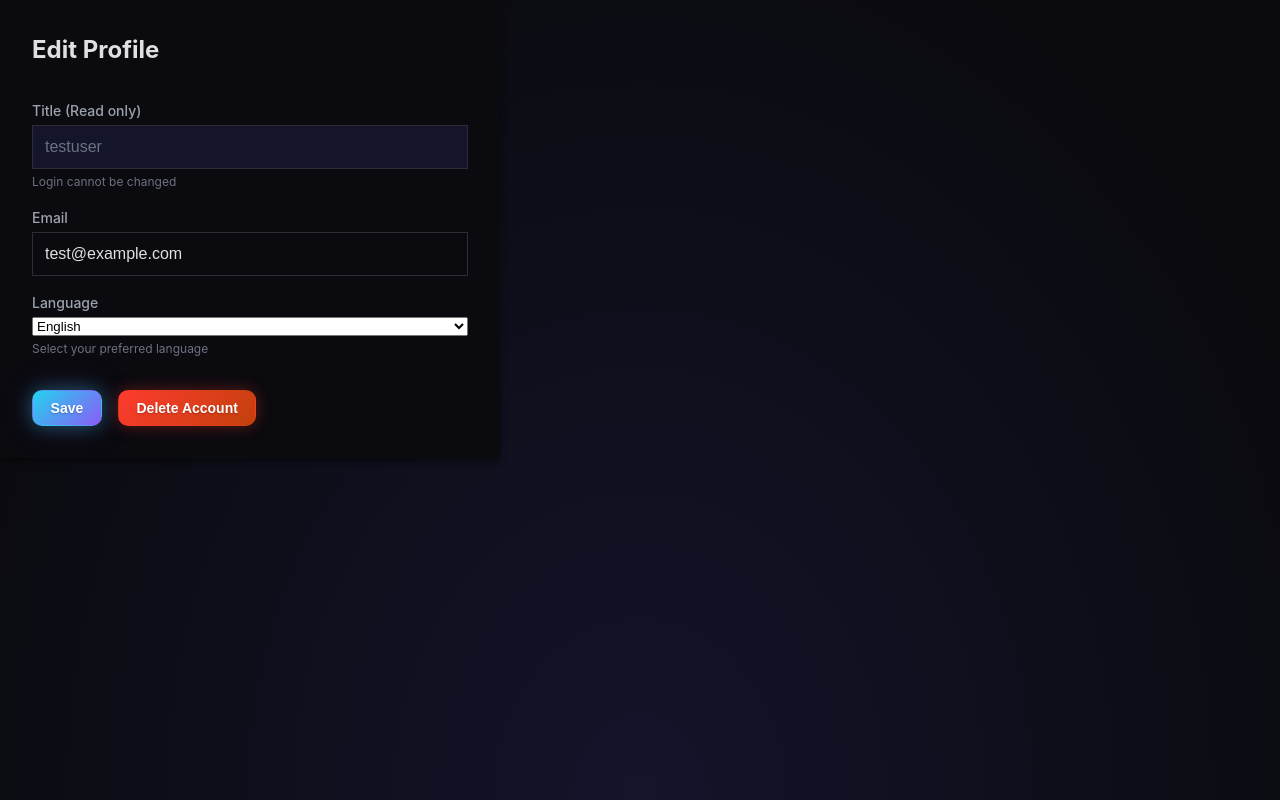
Test: ProfileEditor › saves email changes successfully
The image size is (1280, 800).
Replace the text in the field labelled "Email" with "new@example.com". click: (250, 254)
box: [32,232,468,276]
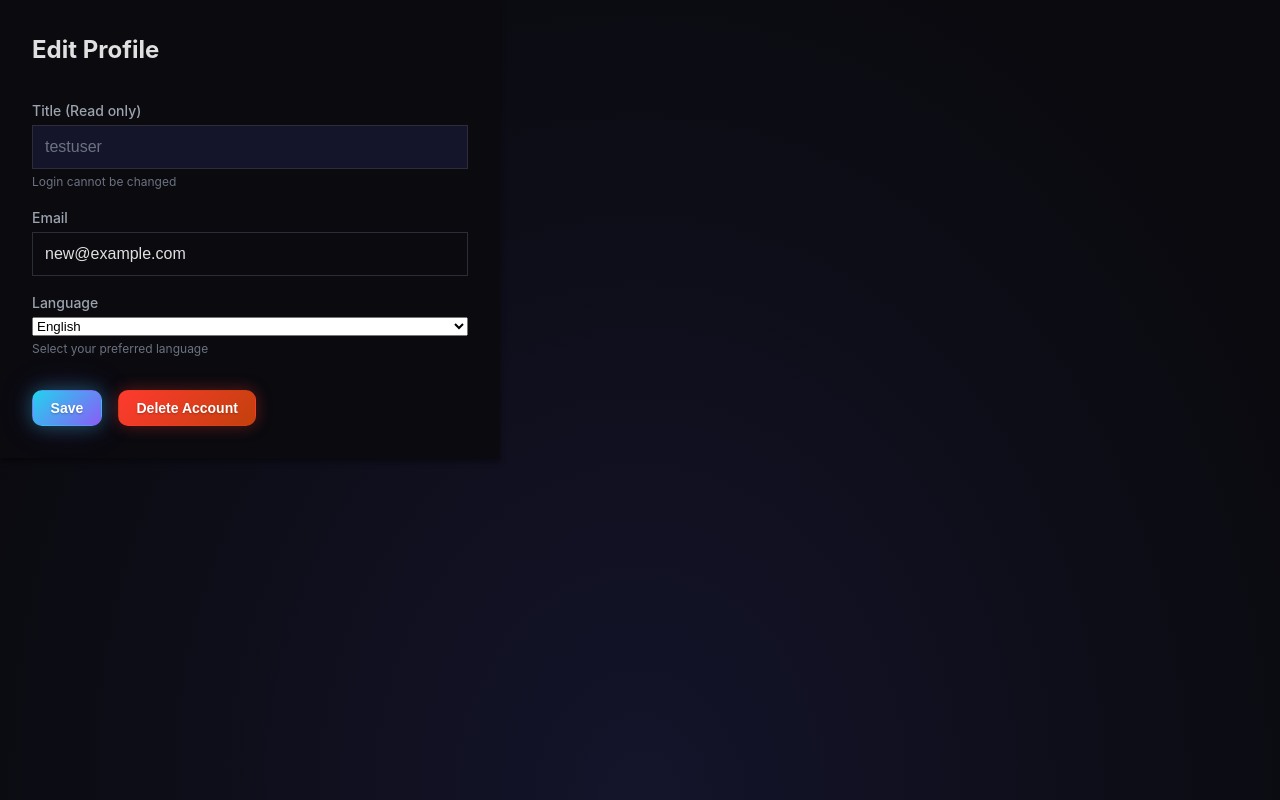
Click the button "Save". click: (67, 408)
box: [32,390,102,426]
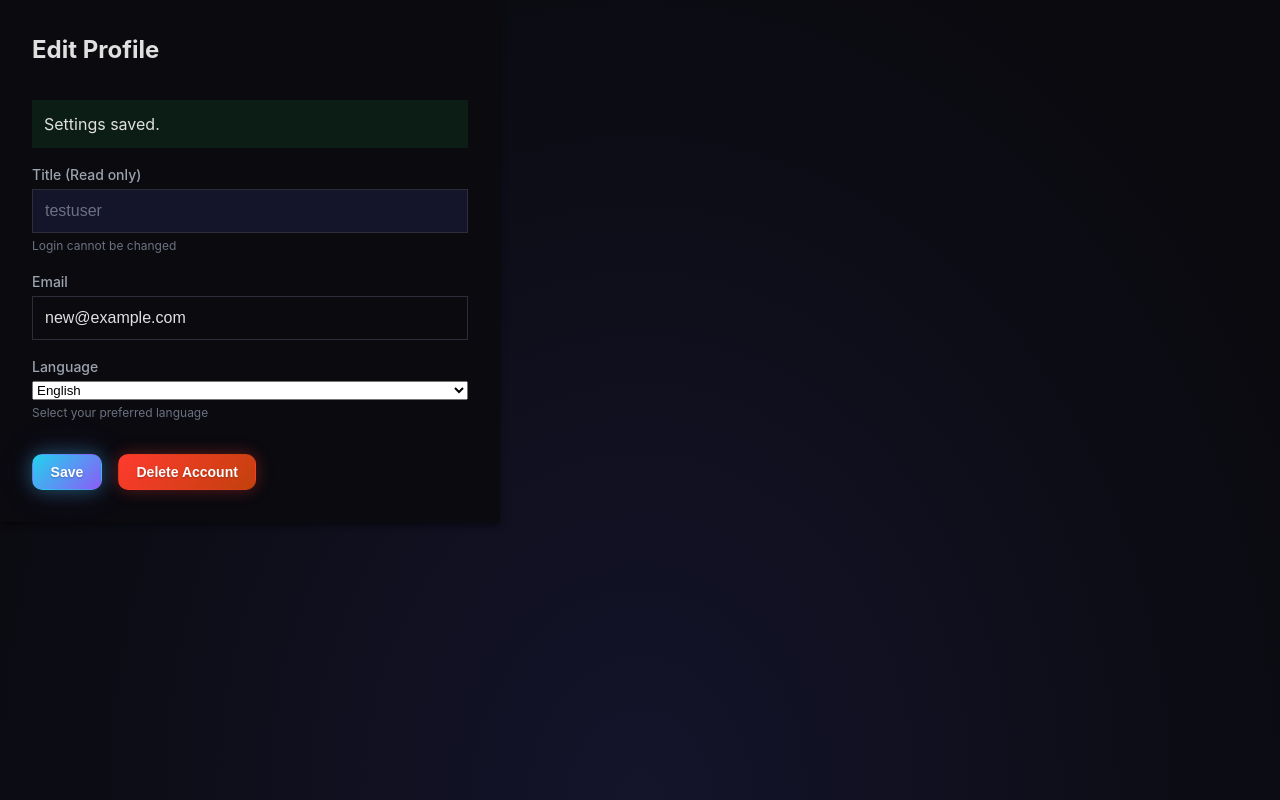
Expected: the text "Settings saved." is shown, [32,100,468,148]
